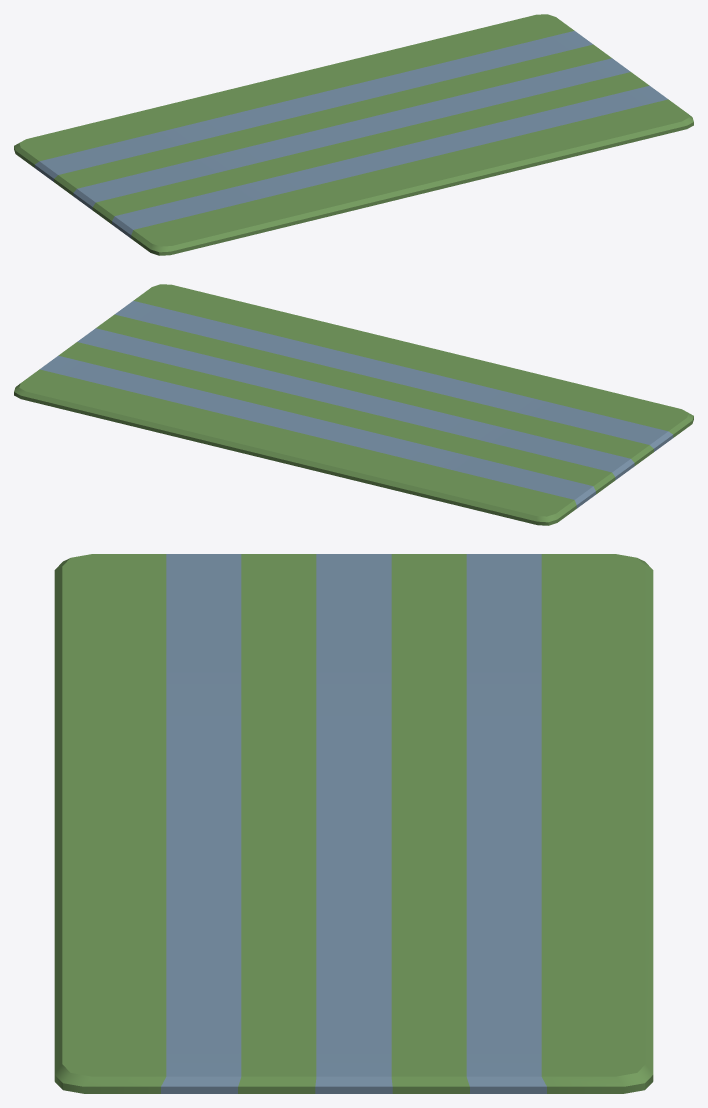
File: Tappeto.fbx
The picture shows the model from 3 angles, top to bottom: view 1: azimuth 30°, elevation 25°; view 2: azimuth 150°, elevation 25°; view 3: azimuth 270°, elevation 25°; orthographic projection. The views are drawn at different scales.
Visible parts, largest first — view 1: Tappeto; view 2: Tappeto; view 3: Tappeto.
Part boxes in pixels (<box>): Tappeto: <box>14,14,693,255</box>; Tappeto: <box>14,284,693,525</box>; Tappeto: <box>54,554,653,1093</box>.
Bounding box in the file's own units: 2.46 × 0.0305 × 1.18.
